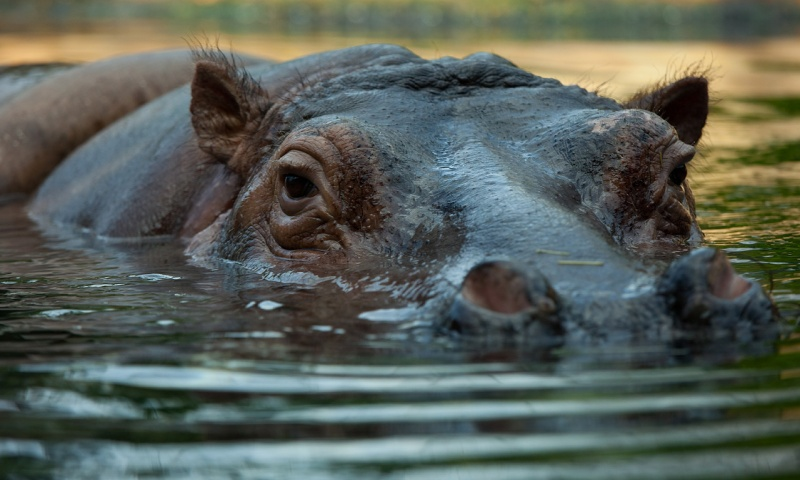hipopotamo: (0, 41, 790, 352)
